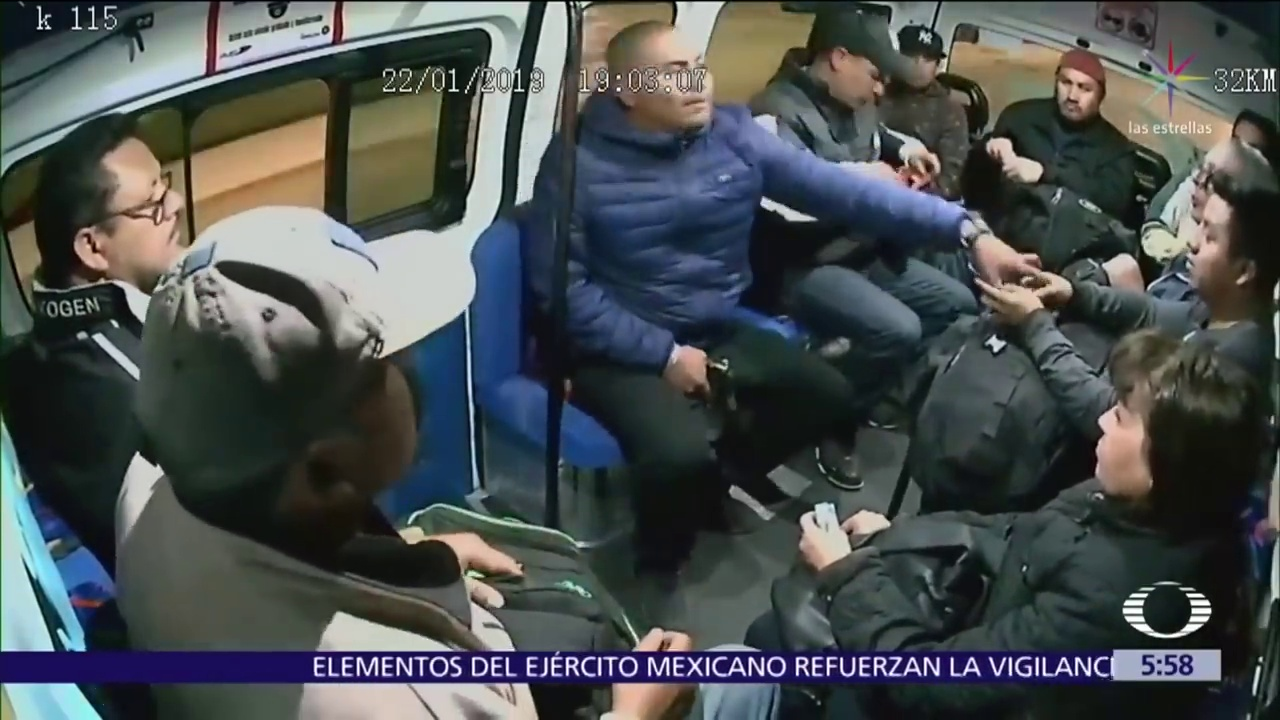pistol: (682, 357, 742, 416)
